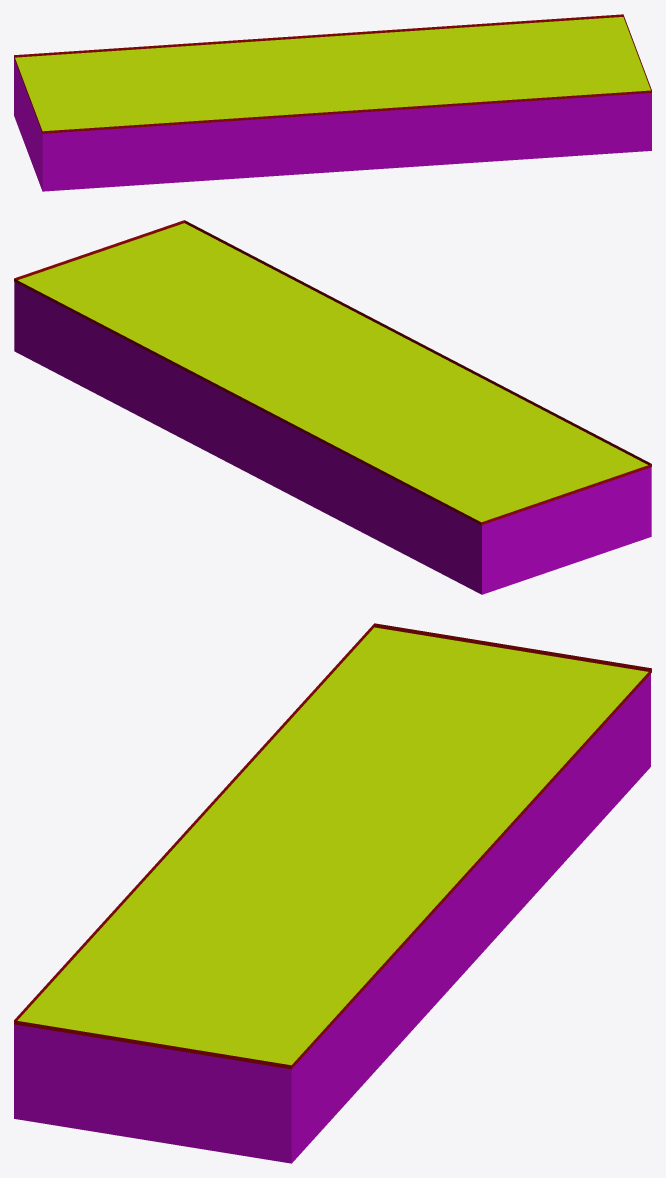
Rendered from bgj_65.glb.
3 views of the same model, one above another, from view 1: azimuth 30°, elevation 25°; view 2: azimuth 150°, elevation 25°; view 3: azimuth 270°, elevation 25° (orthographic). The views are drawn at different scales.
Parts seen in each view (by area): view 1: bgj_65; view 2: bgj_65; view 3: bgj_65.
Part boxes in pixels (x1=…): bgj_65: x1=14, y1=14, x2=651, y2=191; bgj_65: x1=14, y1=220, x2=651, y2=594; bgj_65: x1=14, y1=623, x2=651, y2=1163.
Bounding box in the file's own units: 80.92 × 8.41 × 49.36.
